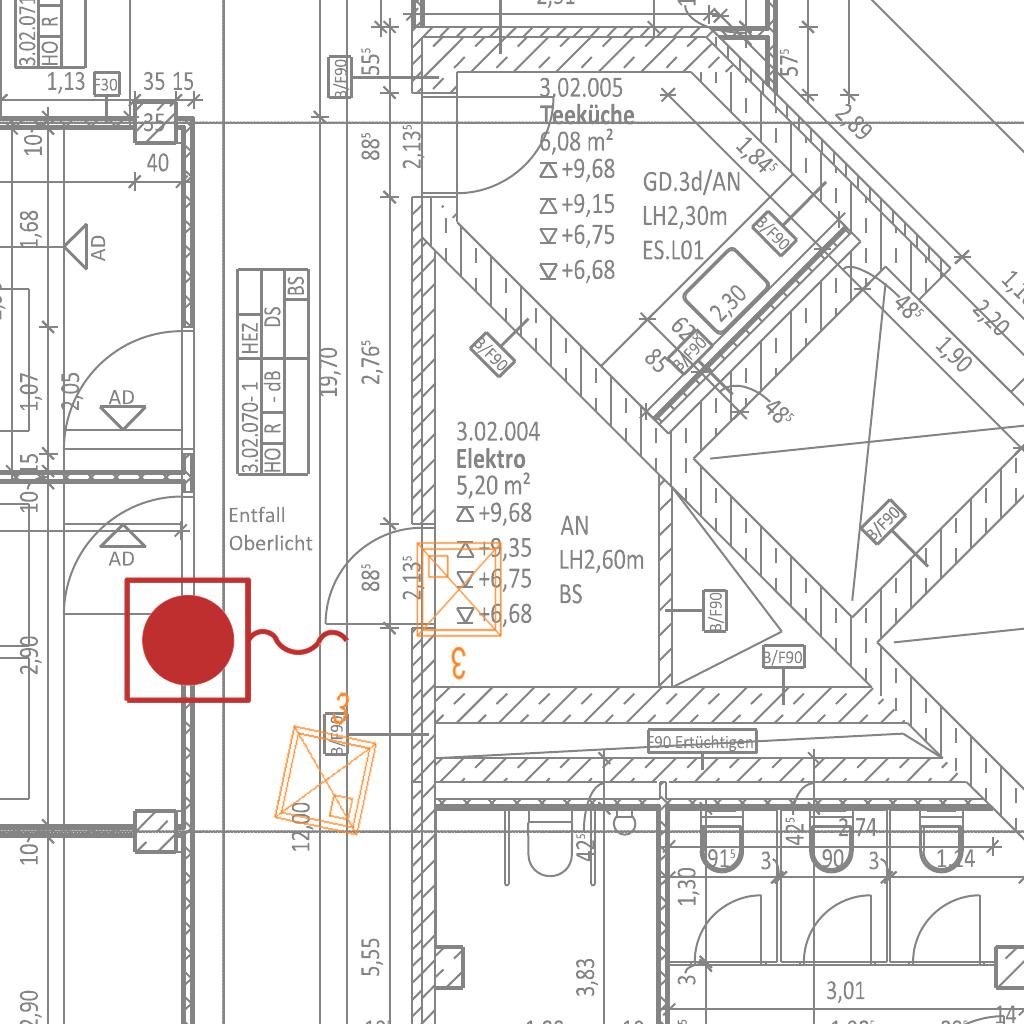Einbaudownlights_LED_Konferenzraeume: (261, 675, 395, 845), (409, 535, 513, 685)
Zugtaster: (116, 570, 360, 714)
